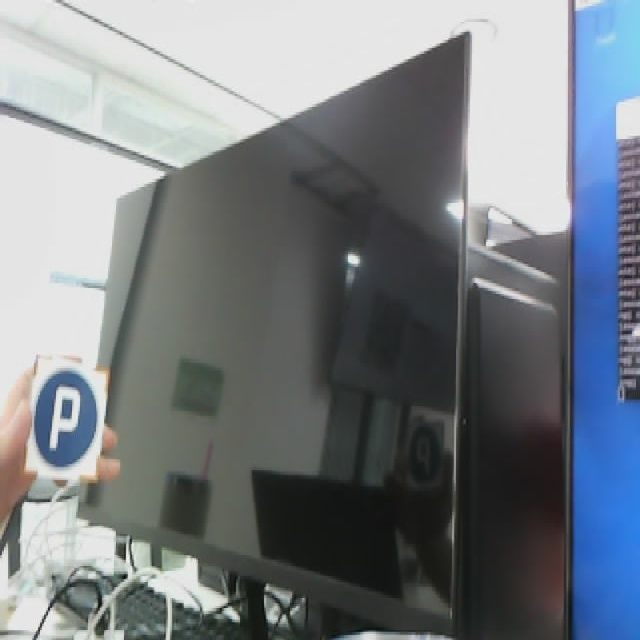parking: (20, 351, 108, 484)
